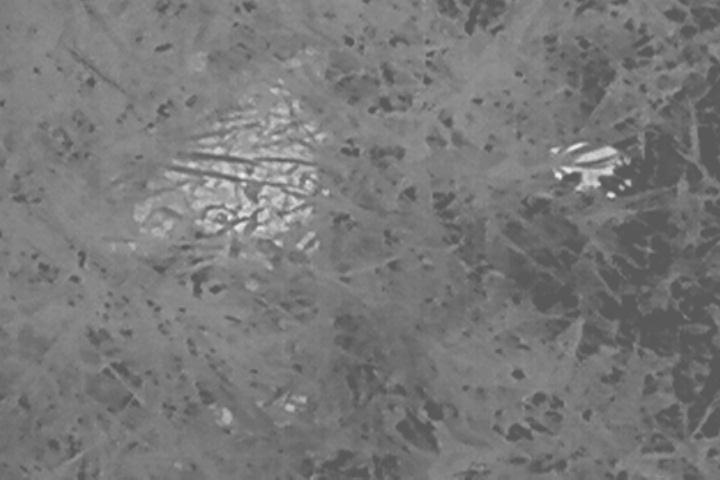landmine: (135, 80, 325, 258)
